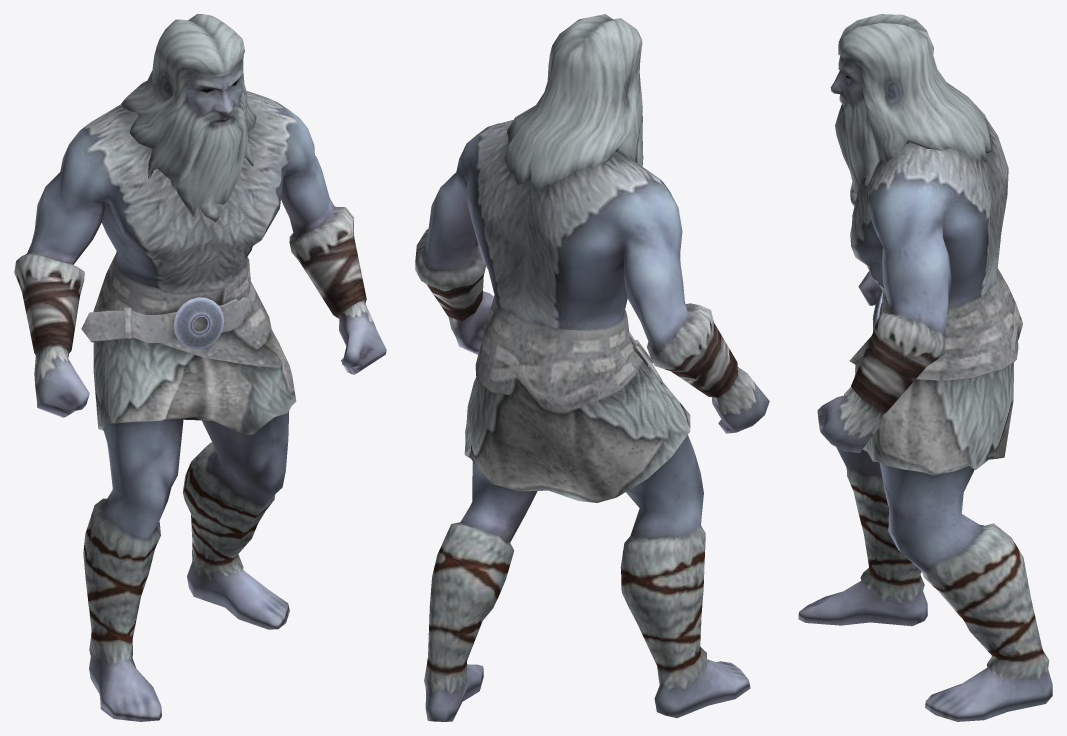
File: body-base.glb
3 views of the same model, side by side, from view 1: azimuth 30°, elevation 25°; view 2: azimuth 150°, elevation 25°; view 3: azimuth 270°, elevation 25° (orthographic). The views are drawn at different scales.
Bounding box in the file's own units: 2.74 × 5.22 × 1.87.
1 material, 1 textured.
